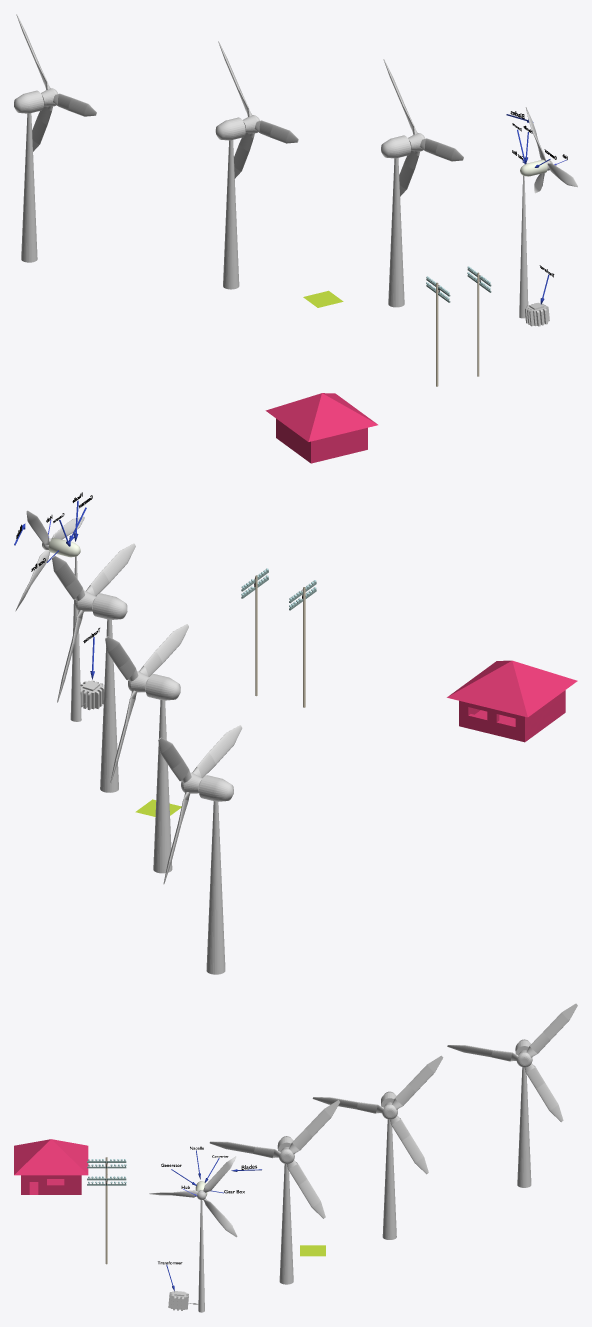
Rendered from Wind Energy.blend.glb.
The picture shows the model from 3 angles, top to bottom: view 1: azimuth 30°, elevation 25°; view 2: azimuth 150°, elevation 25°; view 3: azimuth 270°, elevation 25°; orthographic projection. The views are drawn at different scales.
Visible parts, largest first — view 1: Cube, Cylinder.006, Cylinder, Cylinder.003, Cylinder.002, Cylinder.008, Cylinder.005, Cylinder.013, Cylinder.009, Cylinder.004; view 2: Cube, Cylinder.002, Cylinder.008, Cylinder.005, Cylinder.006, Cylinder, Cylinder.003, Cylinder.009, Cylinder.013, Cylinder.001, Cylinder.007, Cylinder.004 (+1 smaller); view 3: Cube, Cylinder.002, Cylinder.008, Cylinder.005, Cylinder, Cylinder.006, Cylinder.003, Cylinder.009, Cylinder.013.
Boxes of the visible parts, left/top/right/bottom form: Cube: left=265, top=393, right=377, bottom=463; Cylinder.006: left=21, top=113, right=37, bottom=262; Cylinder: left=388, top=158, right=404, bottom=307; Cylinder.003: left=223, top=140, right=239, bottom=289; Cylinder.002: left=383, top=59, right=463, bottom=196; Cylinder.008: left=16, top=14, right=96, bottom=151; Cylinder.005: left=218, top=41, right=298, bottom=178; Cylinder.013: left=519, top=176, right=528, bottom=318; Cylinder.009: left=525, top=107, right=577, bottom=193; Cylinder.004: left=215, top=117, right=245, bottom=140; Cube: left=447, top=660, right=577, bottom=742; Cylinder.002: left=52, top=543, right=135, bottom=702; Cylinder.008: left=158, top=725, right=242, bottom=884; Cylinder.005: left=105, top=624, right=188, bottom=782; Cylinder.006: left=206, top=801, right=225, bottom=974; Cylinder: left=100, top=619, right=118, bottom=792; Cylinder.003: left=153, top=700, right=172, bottom=873; Cylinder.009: left=15, top=510, right=84, bottom=611; Cylinder.013: left=70, top=556, right=81, bottom=721; Cylinder.001: left=92, top=593, right=127, bottom=619; Cylinder.007: left=199, top=775, right=233, bottom=801; Cylinder.004: left=146, top=674, right=180, bottom=700; Cube: left=14, top=1139, right=88, bottom=1194; Cylinder.002: left=209, top=1100, right=339, bottom=1218; Cylinder.008: left=447, top=1003, right=577, bottom=1121; Cylinder.005: left=312, top=1055, right=443, bottom=1174; Cylinder: left=279, top=1164, right=293, bottom=1284; Cylinder.006: left=517, top=1067, right=531, bottom=1187; Cylinder.003: left=382, top=1119, right=396, bottom=1239; Cylinder.009: left=149, top=1156, right=237, bottom=1237; Cylinder.013: left=198, top=1200, right=204, bottom=1312.
Bounding box in the file's own units: 73.79 × 43.23 × 117.
